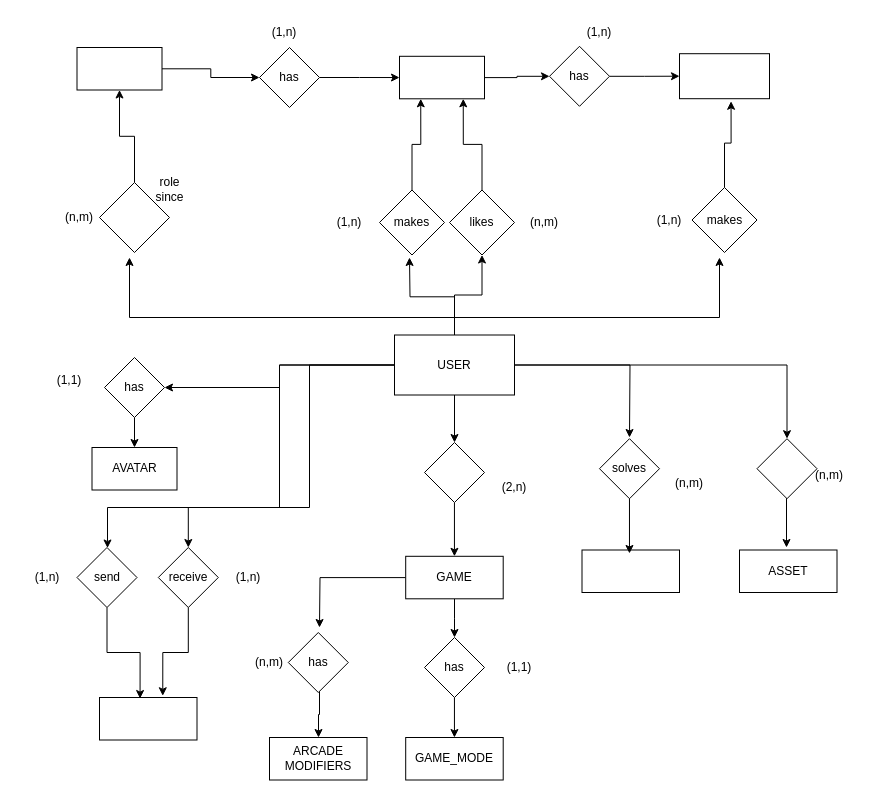
The diagram is 877 pixels wide and 797 high, and some of its shapes have lost their labels. The shapes that lost their labels are listed below. From the top down, each one's box as (x1, y1, x2, y2) in pixels, then its label:
(76, 46, 162, 90): CLUB
(398, 55, 484, 99): POST
(678, 53, 770, 99): COMMENT
(98, 182, 170, 252): is member
(424, 442, 484, 502): plays
(756, 438, 817, 499): buys
(581, 549, 680, 592): PUZZLE
(98, 696, 197, 740): NOTIFICATION
